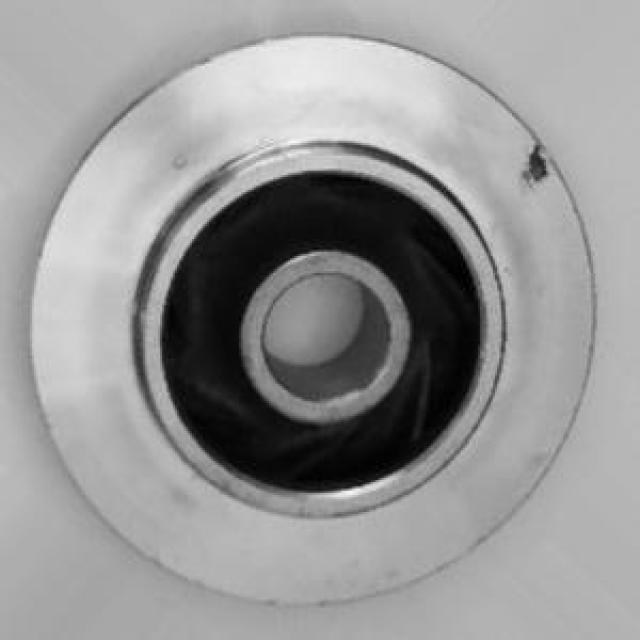Defect: (512, 139, 557, 210)
